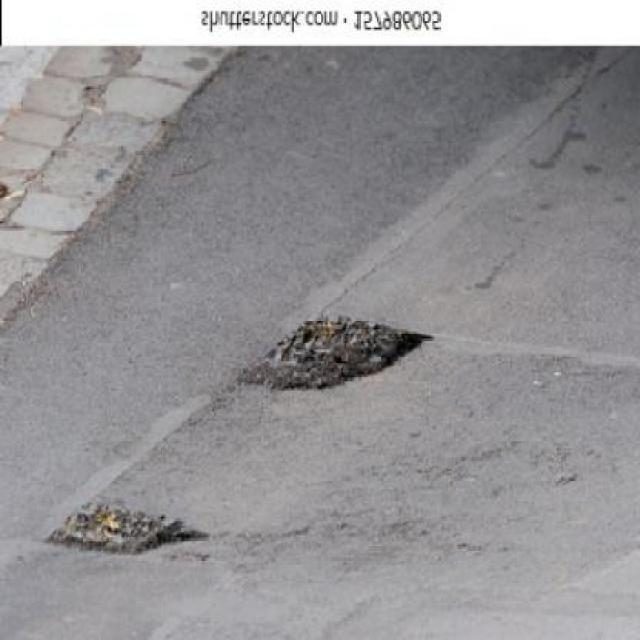Pothole: (234, 309, 437, 395), (38, 502, 206, 559)
